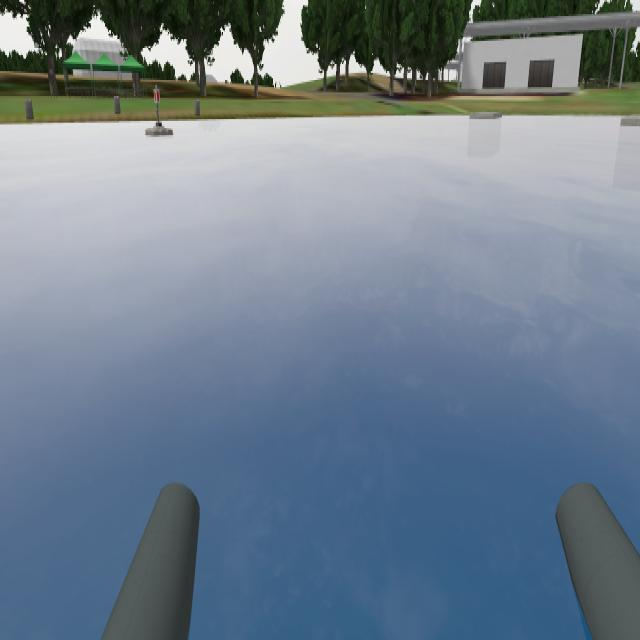post: (152, 84, 162, 104)
